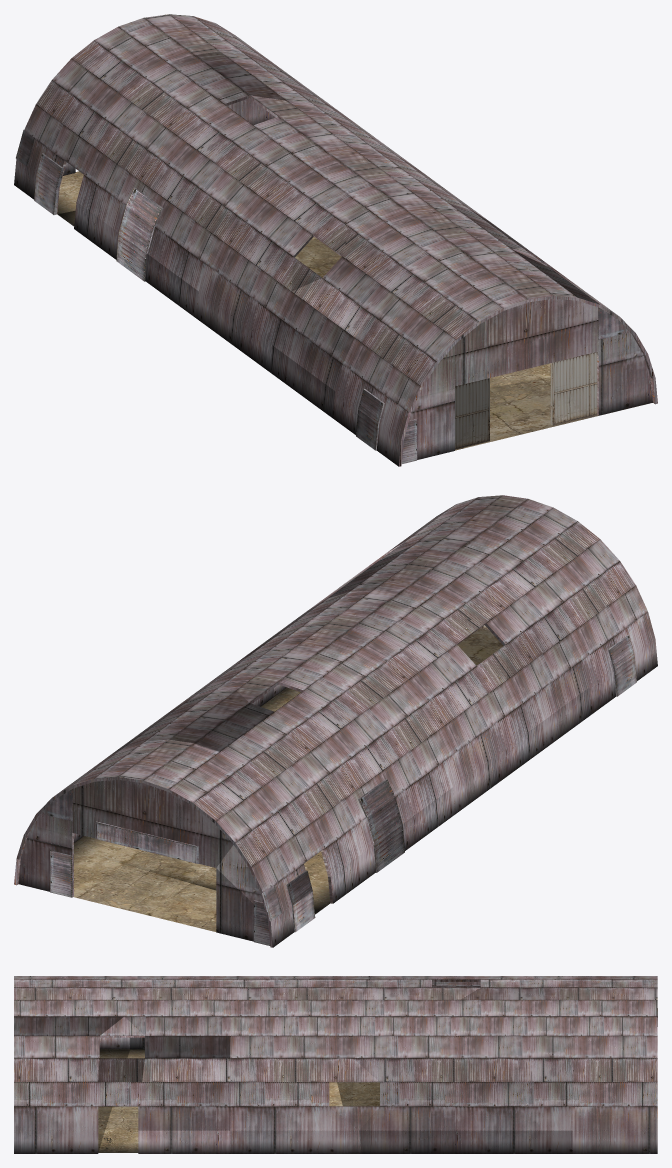
Rendered from big_hall.fbx.
3 views of the same model, one above another, from view 1: azimuth 30°, elevation 25°; view 2: azimuth 150°, elevation 25°; view 3: azimuth 270°, elevation 25° (orthographic). The views are drawn at different scales.
Parts seen in each view (by area): view 1: hala; view 2: hala; view 3: hala.
Part boxes in pixels (x1=…): hala: x1=14, y1=14, x2=657, y2=466; hala: x1=14, y1=495, x2=657, y2=947; hala: x1=14, y1=976, x2=657, y2=1153.
Bounding box in the file's own units: 5.41 × 2.7 × 13.87.
